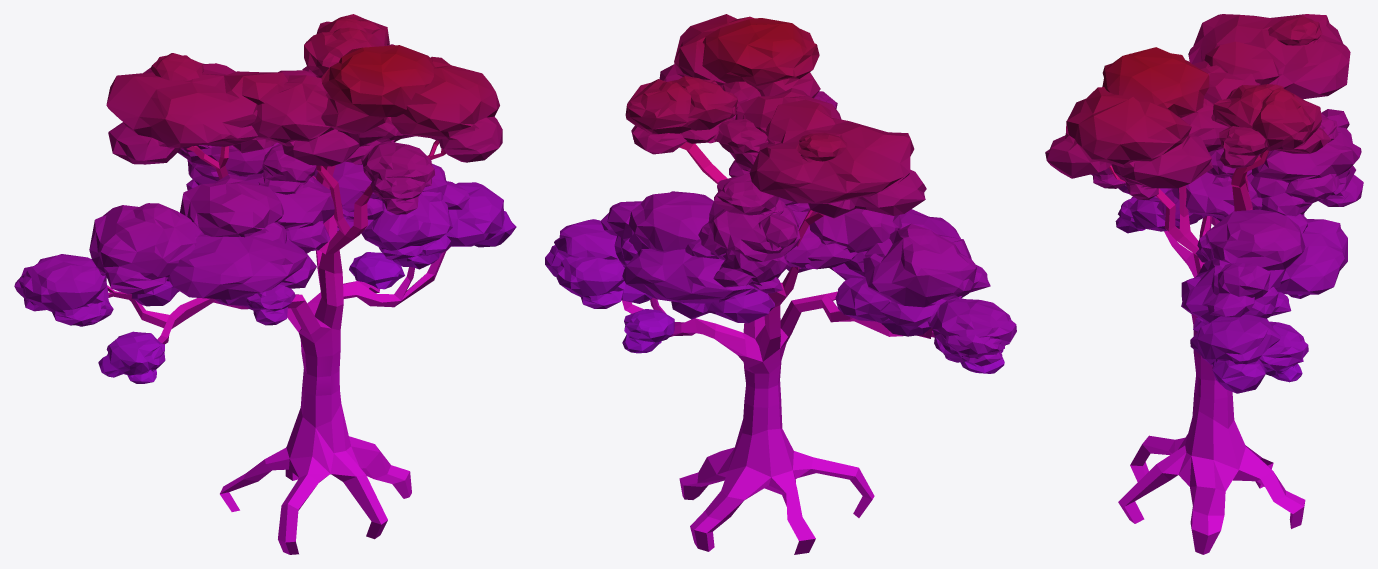
File: SM_Tree_Large_01.gltf
3 renders of one model, left to right at view 1: azimuth 30°, elevation 25°; view 2: azimuth 150°, elevation 25°; view 3: azimuth 270°, elevation 25°, orthographic.
Visible parts, largest first — view 1: SM_Tree_Large_01; view 2: SM_Tree_Large_01; view 3: SM_Tree_Large_01.
Boxes of the visible parts, bbox=[...] form: SM_Tree_Large_01: bbox=[14, 14, 516, 554]; SM_Tree_Large_01: bbox=[545, 14, 1016, 554]; SM_Tree_Large_01: bbox=[1045, 14, 1363, 554].
Bounding box in the file's own units: 9.3 × 8.83 × 5.42.
